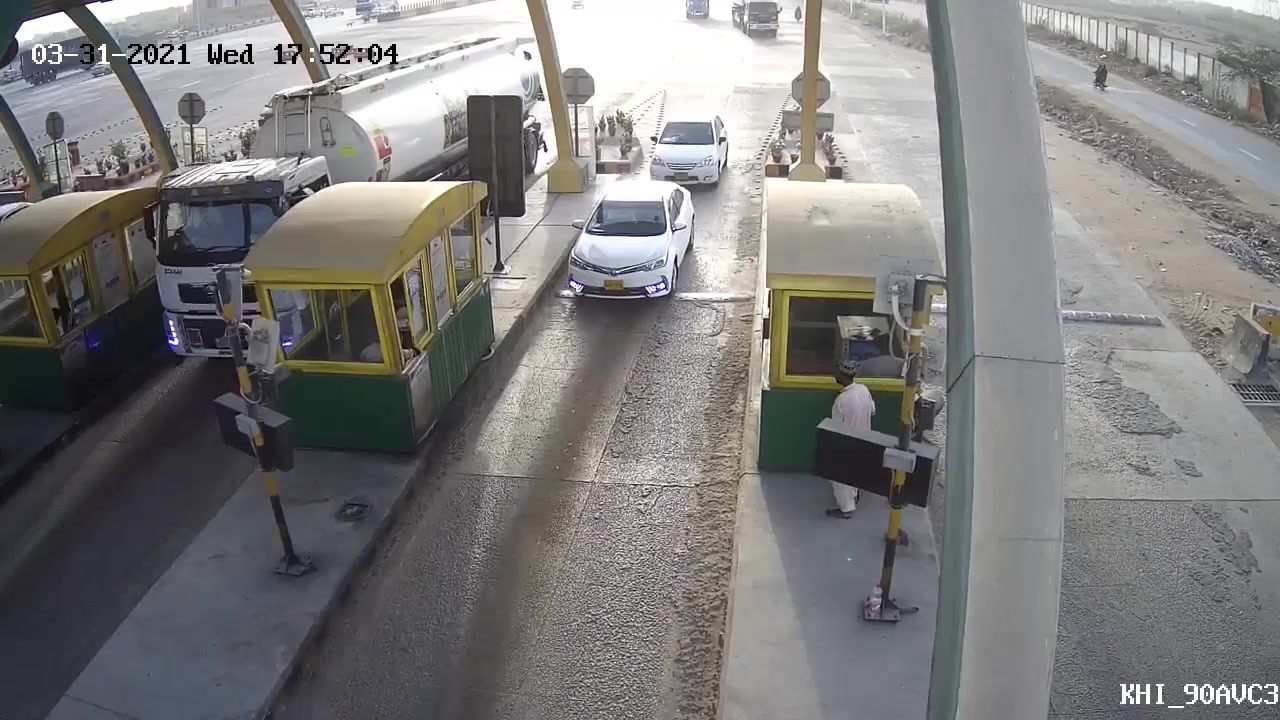F1: (555, 181, 694, 339), (646, 111, 729, 192)
